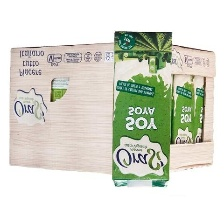carton: (105, 24, 185, 193)
